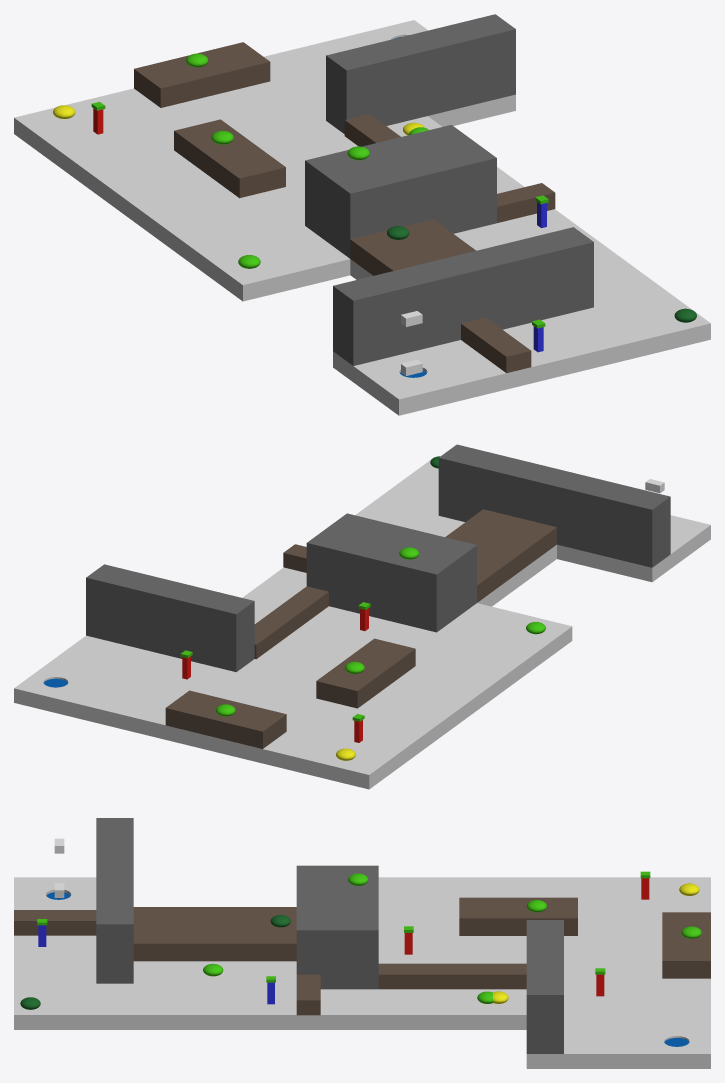
Rendered from level2.fbx.
3 renders of one model, top to bottom at view 1: azimuth 30°, elevation 25°; view 2: azimuth 150°, elevation 25°; view 3: azimuth 270°, elevation 25°, orthographic. The views are drawn at different scales.
Parts seen in each view (by area): view 1: 冰面.003, 墙.001, 冰面.001, 墙.002, 墙, 冰面, 冰面.002, 障碍物.005, 障碍物.004, 障碍物.002, 障碍物, 障碍物.001 (+1 smaller); view 2: 冰面.003, 冰面, 墙.001, 墙.002, 墙, 冰面.002, 冰面.001, 障碍物.002, 障碍物.005, 障碍物.004, 障碍物.003, 障碍物.001; view 3: 冰面.002, 冰面, 冰面.001, 冰面.003, 墙.002, 障碍物.002, 墙.001, 墙, 障碍物.003, 障碍物.004, 障碍物.005, 障碍物 (+1 smaller).
Part boxes in pixels (x1,y1,x2,y2): 冰面.003: [14, 91, 350, 301]; 墙.001: [333, 227, 593, 365]; 冰面.001: [333, 275, 710, 415]; 墙.002: [305, 125, 496, 258]; 墙: [326, 14, 515, 133]; 冰面: [122, 20, 515, 154]; 冰面.002: [260, 116, 644, 287]; 障碍物.005: [134, 42, 270, 107]; 障碍物.004: [174, 119, 285, 198]; 障碍物.002: [350, 219, 476, 275]; 障碍物: [461, 317, 531, 373]; 障碍物.001: [497, 183, 555, 222]; 冰面.003: [274, 603, 572, 789]; 冰面: [14, 635, 338, 766]; 墙.001: [438, 444, 670, 567]; 墙.002: [306, 513, 476, 632]; 墙: [86, 564, 254, 672]; 冰面.002: [242, 500, 556, 675]; 冰面.001: [376, 459, 710, 582]; 障碍物.002: [445, 509, 556, 602]; 障碍物.005: [165, 690, 286, 748]; 障碍物.004: [316, 638, 415, 708]; 障碍物.003: [254, 586, 328, 659]; 障碍物.001: [283, 544, 306, 572]; 冰面.002: [133, 924, 526, 1029]; 冰面: [526, 924, 710, 1068]; 冰面.001: [14, 877, 133, 1029]; 冰面.003: [378, 877, 710, 924]; 墙.002: [296, 865, 378, 989]; 障碍物.002: [133, 907, 296, 961]; 墙.001: [96, 818, 133, 983]; 墙: [526, 920, 563, 1053]; 障碍物.003: [378, 963, 526, 989]; 障碍物.004: [459, 897, 577, 935]; 障碍物.005: [662, 912, 710, 978]; 障碍物: [14, 910, 96, 935].
Bounding box in the file's own units: 2566 × 562 × 4275.
